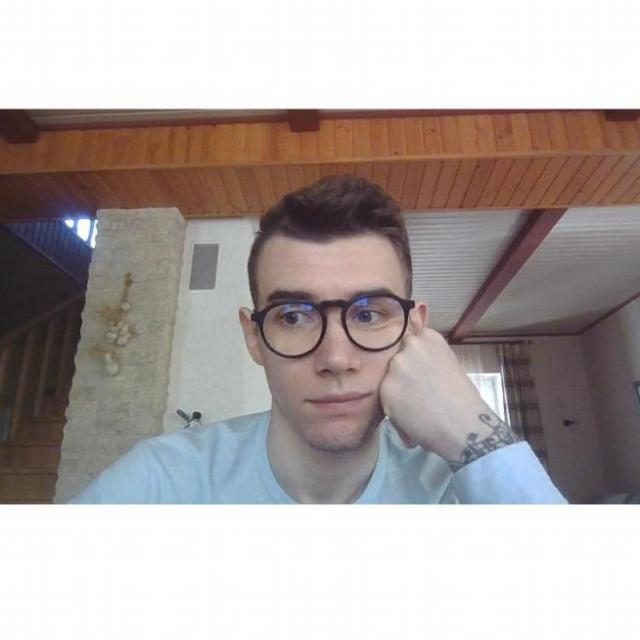live: (260, 237, 408, 451)
